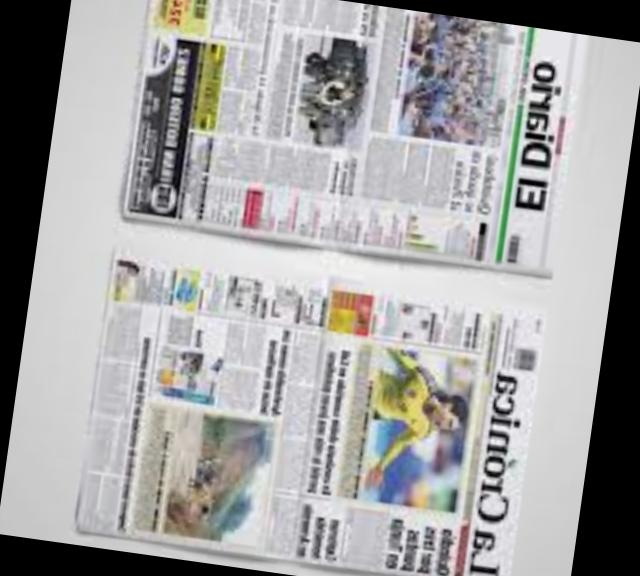cardboard paper: (80, 261, 545, 576), (130, 0, 587, 273)
